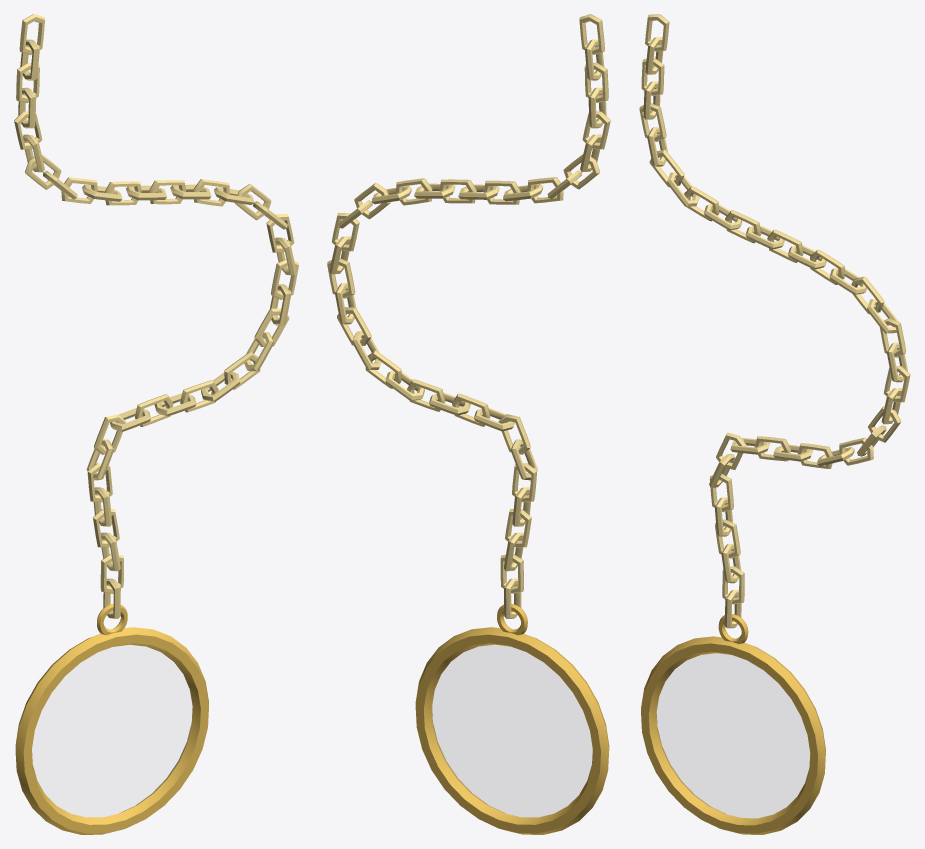
The model's file is one_eye_glasses.glb.
The picture shows the model from 3 angles, left to right: view 1: azimuth 30°, elevation 25°; view 2: azimuth 150°, elevation 25°; view 3: azimuth 330°, elevation 25°; orthographic projection. The views are drawn at different scales.
Parts seen in each view (by area): view 1: Plane_4, Torus_1, Torus 2_22, Torus 2_7, Torus 2_11, Torus 2_10, Torus 2_12, Torus 2_9, Torus 2_8, Torus 2_21, Torus 2_6, Torus 2_3 (+9 smaller); view 2: Plane_4, Torus_1, Torus 2_22, Torus 2_7, Torus 2_10, Torus 2_11, Torus 2_12, Torus 2_8, Torus 2_21, Torus 2_3, Torus 2_9, Torus 2_6 (+9 smaller); view 3: Plane_4, Torus_1, Torus 2_14, Torus 2_19, Torus 2_22, Torus 2_13, Torus 2_18, Torus 2_20, Torus 2_15, Torus 2_5, Torus 2_17, Torus 2_16 (+9 smaller).
Part boxes in pixels (bbox=[...]): Plane_4: bbox=[32, 645, 192, 816]; Torus_1: bbox=[15, 603, 208, 834]; Torus 2_22: bbox=[19, 14, 44, 80]; Torus 2_7: bbox=[86, 414, 126, 480]; Torus 2_11: bbox=[244, 308, 289, 371]; Torus 2_10: bbox=[201, 352, 260, 401]; Torus 2_12: bbox=[270, 259, 298, 325]; Torus 2_9: bbox=[154, 380, 218, 416]; Torus 2_8: bbox=[110, 394, 173, 431]; Torus 2_21: bbox=[16, 62, 39, 128]; Torus 2_6: bbox=[87, 463, 112, 526]; Torus 2_3: bbox=[100, 554, 123, 618]; Plane_4: bbox=[432, 645, 592, 816]; Torus_1: bbox=[415, 603, 609, 834]; Torus 2_22: bbox=[579, 14, 604, 80]; Torus 2_7: bbox=[498, 414, 537, 480]; Torus 2_10: bbox=[365, 350, 424, 401]; Torus 2_11: bbox=[337, 307, 381, 369]; Torus 2_12: bbox=[327, 258, 356, 324]; Torus 2_8: bbox=[452, 393, 514, 431]; Torus 2_21: bbox=[584, 62, 608, 128]; Torus 2_3: bbox=[500, 554, 523, 618]; Torus 2_9: bbox=[407, 379, 470, 415]; Torus 2_6: bbox=[512, 463, 537, 526]; Plane_4: bbox=[657, 653, 809, 817]; Torus_1: bbox=[641, 614, 825, 834]; Torus 2_14: bbox=[851, 276, 899, 333]; Torus 2_19: bbox=[649, 149, 699, 206]; Torus 2_22: bbox=[645, 14, 669, 74]; Torus 2_13: bbox=[879, 318, 907, 382]; Torus 2_18: bbox=[684, 186, 742, 230]; Torus 2_20: bbox=[639, 103, 667, 166]; Torus 2_15: bbox=[810, 249, 866, 294]; Torus 2_5: bbox=[715, 519, 741, 583]; Torus 2_17: bbox=[725, 210, 784, 249]; Torus 2_16: bbox=[767, 229, 826, 269].
Bounding box in the file's own units: 0.2985 × 0.8414 × 0.025.
